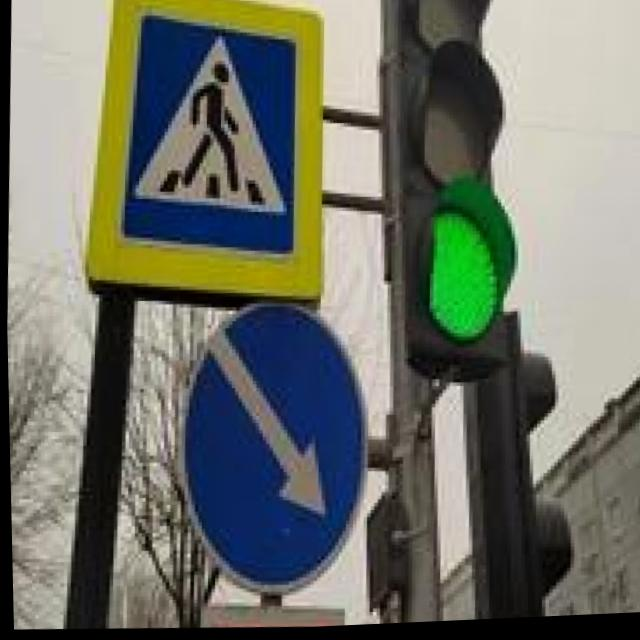green_light: (390, 191, 517, 392)
